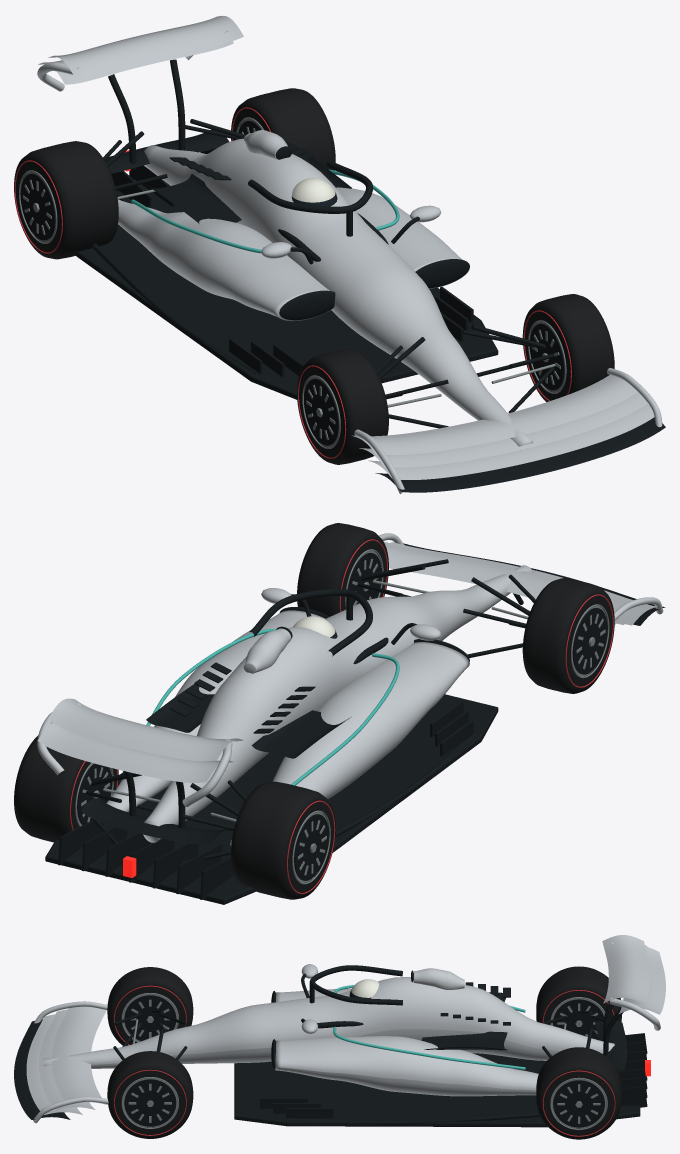
The model's file is open-wheel-high.glb.
3 renders of one model, top to bottom at view 1: azimuth 30°, elevation 25°; view 2: azimuth 150°, elevation 25°; view 3: azimuth 270°, elevation 25°, orthographic. The views are drawn at different scales.
Parts seen in each view (by area): view 1: TD_V3_OpenWheel, Wheel_RL, Wheel_FL, Wheel_FR, Wheel_RR; view 2: TD_V3_OpenWheel, Wheel_RL, Wheel_FL, Wheel_RR, Wheel_FR; view 3: TD_V3_OpenWheel, Wheel_RR, Wheel_FR, Wheel_FL, Wheel_RL.
Boxes of the visible parts, left/top/right/bottom form: TD_V3_OpenWheel: left=37, top=15, right=665, bottom=493; Wheel_RL: left=14, top=141, right=118, bottom=259; Wheel_FL: left=297, top=349, right=388, bottom=464; Wheel_FR: left=522, top=294, right=614, bottom=402; Wheel_RR: left=231, top=88, right=335, bottom=170; TD_V3_OpenWheel: left=37, top=533, right=665, bottom=904; Wheel_RL: left=231, top=781, right=335, bottom=899; Wheel_FL: left=522, top=578, right=614, bottom=693; Wheel_RR: left=14, top=735, right=118, bottom=842; Wheel_FR: left=297, top=523, right=388, bottom=616; TD_V3_OpenWheel: left=14, top=935, right=665, bottom=1127; Wheel_RR: left=536, top=1047, right=621, bottom=1139; Wheel_FR: left=107, top=1051, right=193, bottom=1138; Wheel_FL: left=107, top=967, right=193, bottom=1045; Wheel_RL: left=536, top=966, right=621, bottom=1038.
Size of the model in its own units: 2.07 by 1.18 by 5.47.
